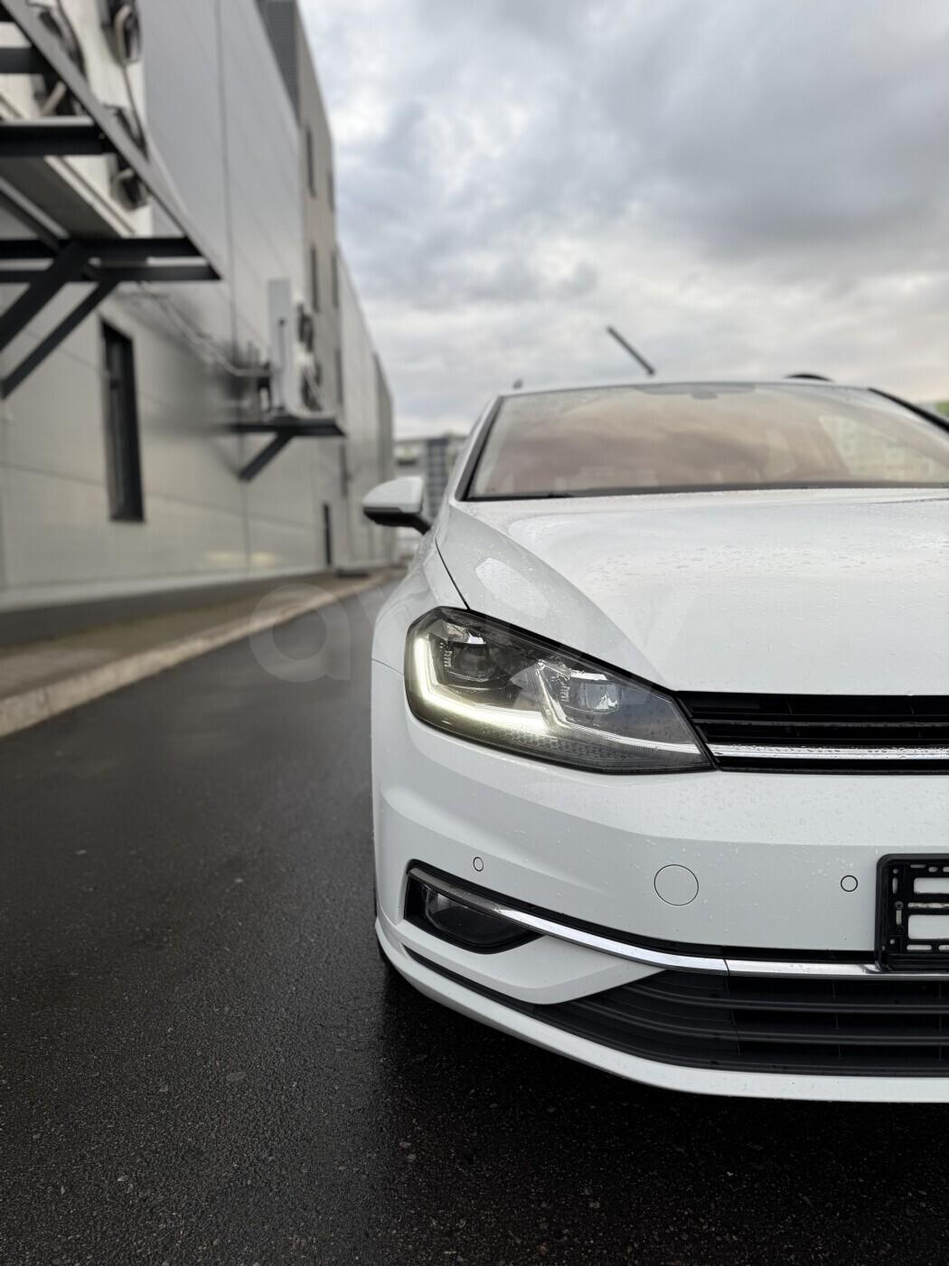Golf_2017-2021: (360, 369, 949, 1116)
